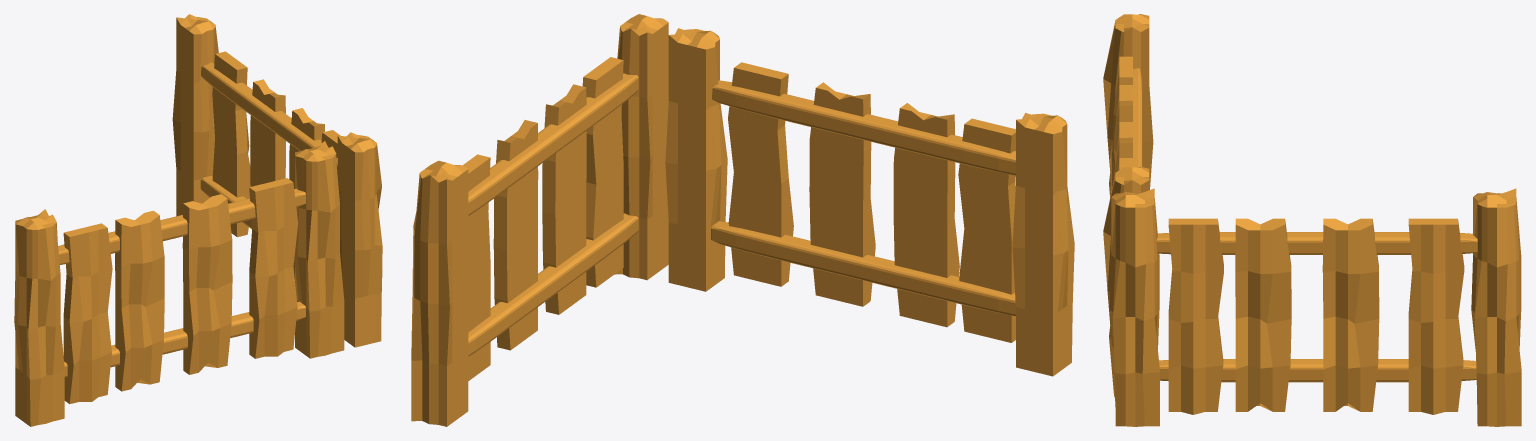
Rendered from FenchPrefect.fbx.
The picture shows the model from 3 angles, left to right: view 1: azimuth 30°, elevation 25°; view 2: azimuth 150°, elevation 25°; view 3: azimuth 270°, elevation 25°; orthographic projection. The views are drawn at different scales.
Parts seen in each view (by area): view 1: Cube, Cube.001, Cube.008, Cube.006, Cube.007, Cube.004, Cube.005, Cube.010, Cube.013, Cube.015, Cube.011, Cube.002 (+3 smaller); view 2: Cube, Cube.010, Cube.001, Cube.008, Cube.006, Cube.007, Cube.005, Cube.004, Cube.002, Cube.003, Cube.014, Cube.015 (+4 smaller); view 3: Cube.008, Cube.010, Cube.014, Cube.015, Cube.013, Cube.012, Cube, Cube.011, Cube.009, Cube.001, Cube.002, Cube.004 (+2 smaller).
Part boxes in pixels (box(x1,y1,x2,y2)): Cube: box(14, 209, 64, 426); Cube.001: box(294, 141, 344, 358); Cube.008: box(337, 132, 382, 347); Cube.006: box(115, 210, 164, 391); Cube.007: box(182, 194, 232, 374); Cube.004: box(63, 223, 112, 404); Cube.005: box(249, 178, 298, 358); Cube.010: box(172, 14, 218, 216); Cube.013: box(212, 51, 250, 237); Cube.015: box(250, 79, 285, 186); Cube.011: box(201, 62, 337, 174); Cube.002: box(58, 188, 305, 264); Cube: box(1012, 113, 1074, 376); Cube.010: box(411, 160, 468, 426); Cube.001: box(665, 28, 727, 291); Cube.008: box(614, 14, 668, 280); Cube.006: box(893, 103, 959, 327); Cube.007: box(809, 82, 875, 306); Cube.005: box(728, 62, 793, 286); Cube.004: box(958, 118, 1015, 342); Cube.002: box(712, 80, 1015, 175); Cube.003: box(711, 221, 1015, 315); Cube.014: box(542, 84, 586, 314); Cube.015: box(493, 120, 538, 350); Cube.008: box(1109, 188, 1159, 426); Cube.010: box(1471, 188, 1521, 426); Cube.014: box(1235, 218, 1291, 411); Cube.015: box(1322, 218, 1379, 411); Cube.013: box(1408, 218, 1464, 414); Cube.012: box(1168, 218, 1223, 414); Cube: box(1103, 14, 1153, 195); Cube.011: box(1156, 232, 1477, 254); Cube.009: box(1159, 359, 1476, 382); Cube.001: box(1103, 167, 1149, 400); Cube.002: box(1133, 68, 1142, 167); Cube.004: box(1110, 56, 1132, 197).
Bounding box in the file's own units: 565 × 296 × 501.
